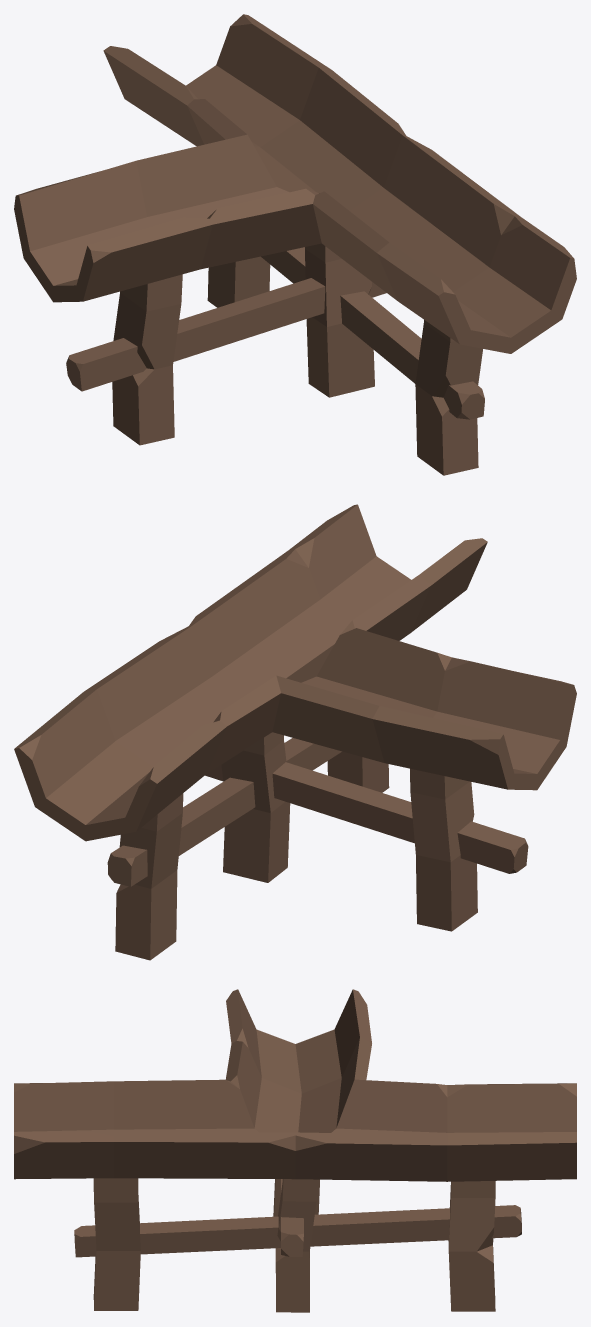
File: Pipe_3.fbx
3 views of the same model, one above another, from view 1: azimuth 30°, elevation 25°; view 2: azimuth 150°, elevation 25°; view 3: azimuth 270°, elevation 25° (orthographic). The views are drawn at different scales.
Visible parts, largest first — view 1: 3; view 2: 3; view 3: 3.
Boxes of the visible parts, x1,y1,x2,y2 form: 3: [14, 14, 576, 475]; 3: [14, 504, 576, 960]; 3: [14, 989, 576, 1312].
Bounding box in the file's own units: 1.27 × 0.7847 × 2.
